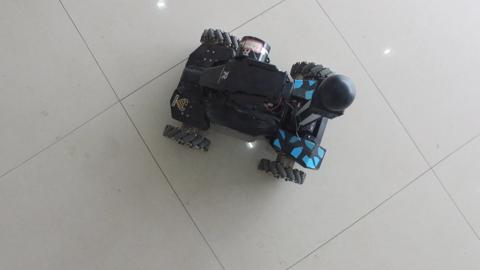chariot: (159, 14, 340, 192)
